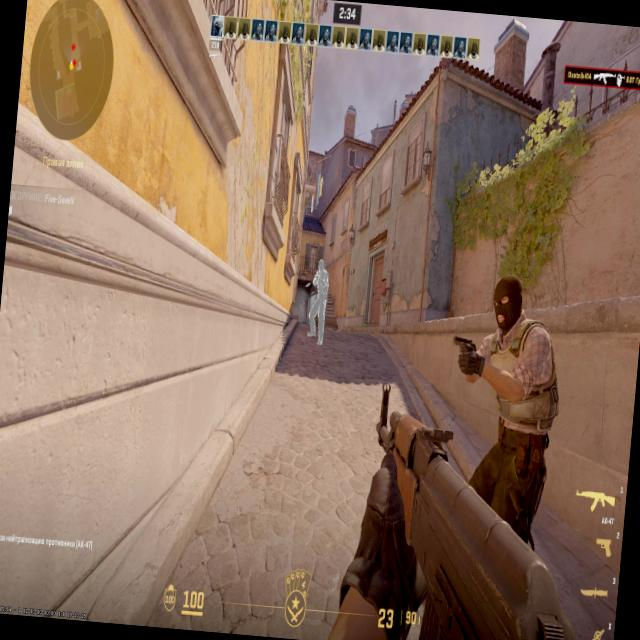T: (477, 284, 552, 501)
T_heat: (498, 296, 524, 338)
